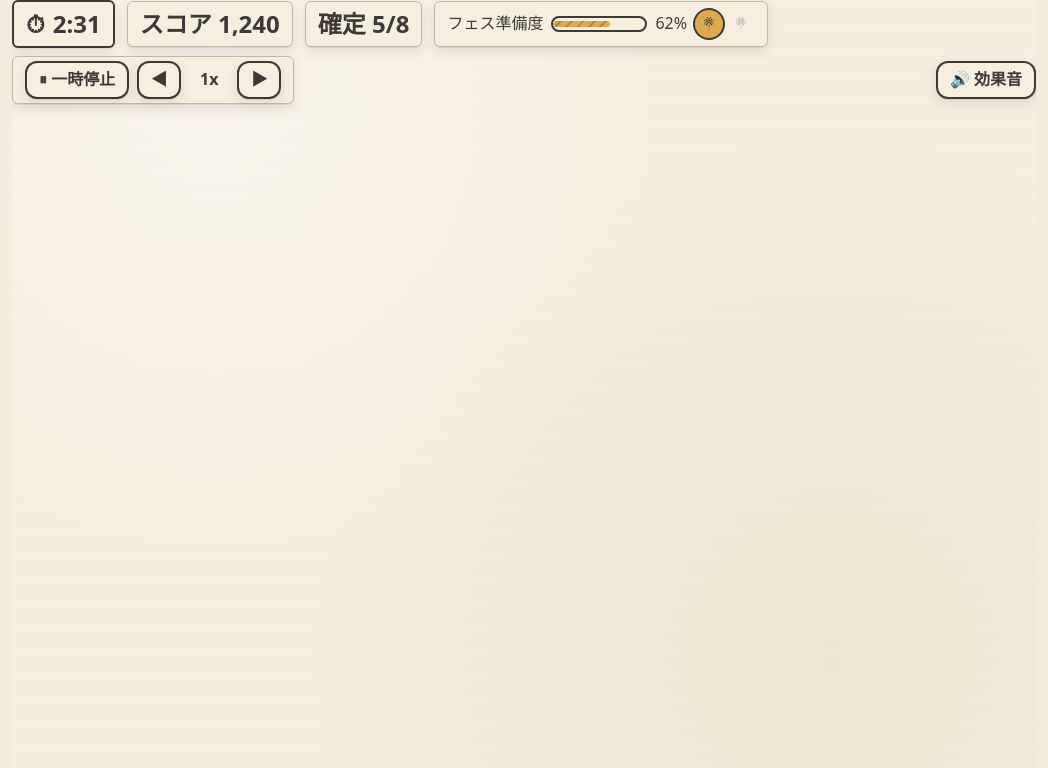
it: HudBar › HB-7 一時停止の失敗は「一時停止・再開」
What coordinates should you click on to do the following:
click the button "⏸ 一時停止"
I would click on:
 (77, 80)
Its box is top-left (25, 61), bottom-right (129, 99).
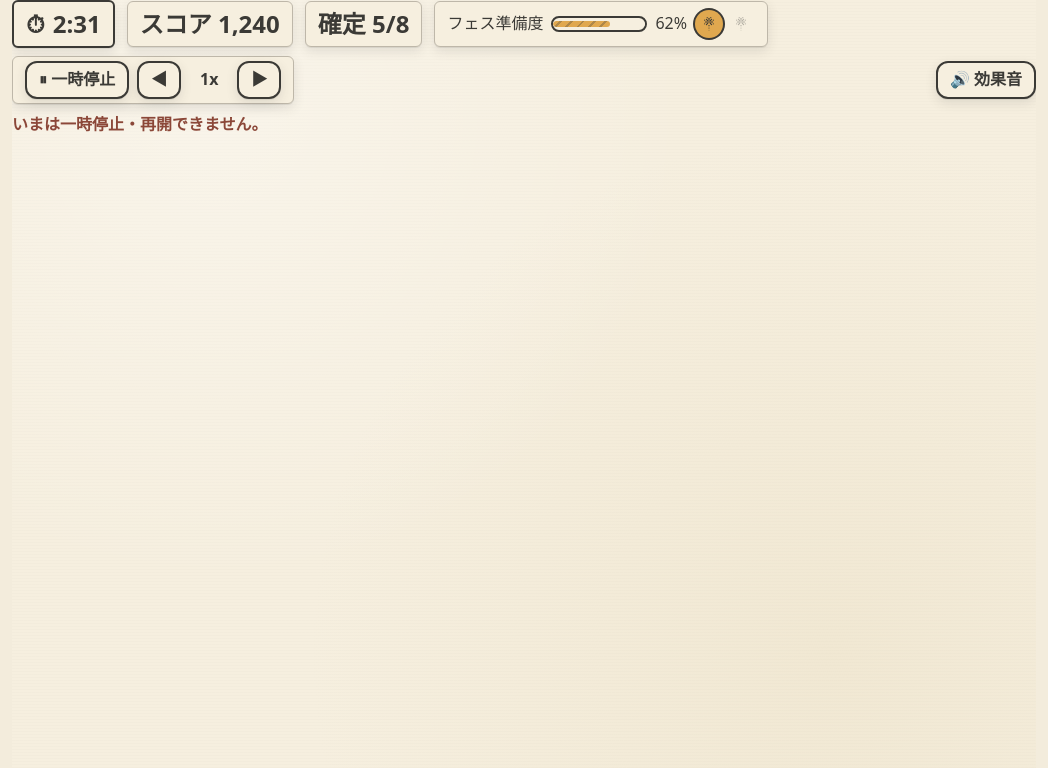
Result: the message "いまは一時停止・再開できません。" is shown at top-left (12, 113), bottom-right (268, 135)
